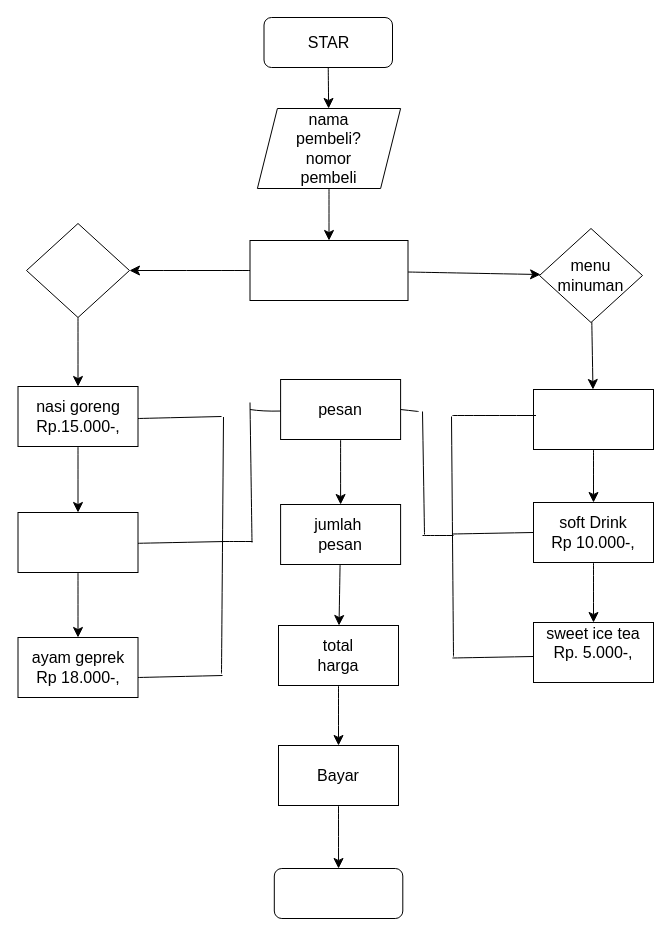
Image size: 671x936. Some labels were removed from this diagram. The shapes that lost their labels are listed below. From the top down, each one's centre as x and y in pixels, then its label:
point (78, 270): Menu makanan
point (328, 270): pesan mau apa? (makanan/minuman)
point (593, 419): aneka jus Rp.15.000-,
point (77, 542): mie goreng Rp. 12.000-,
point (338, 893): finish
